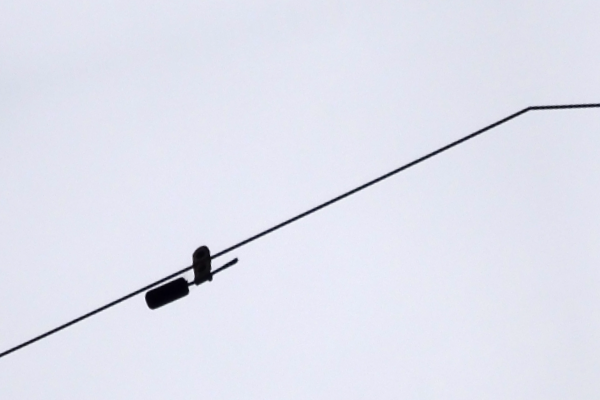damper_defect: (143, 243, 242, 310)
